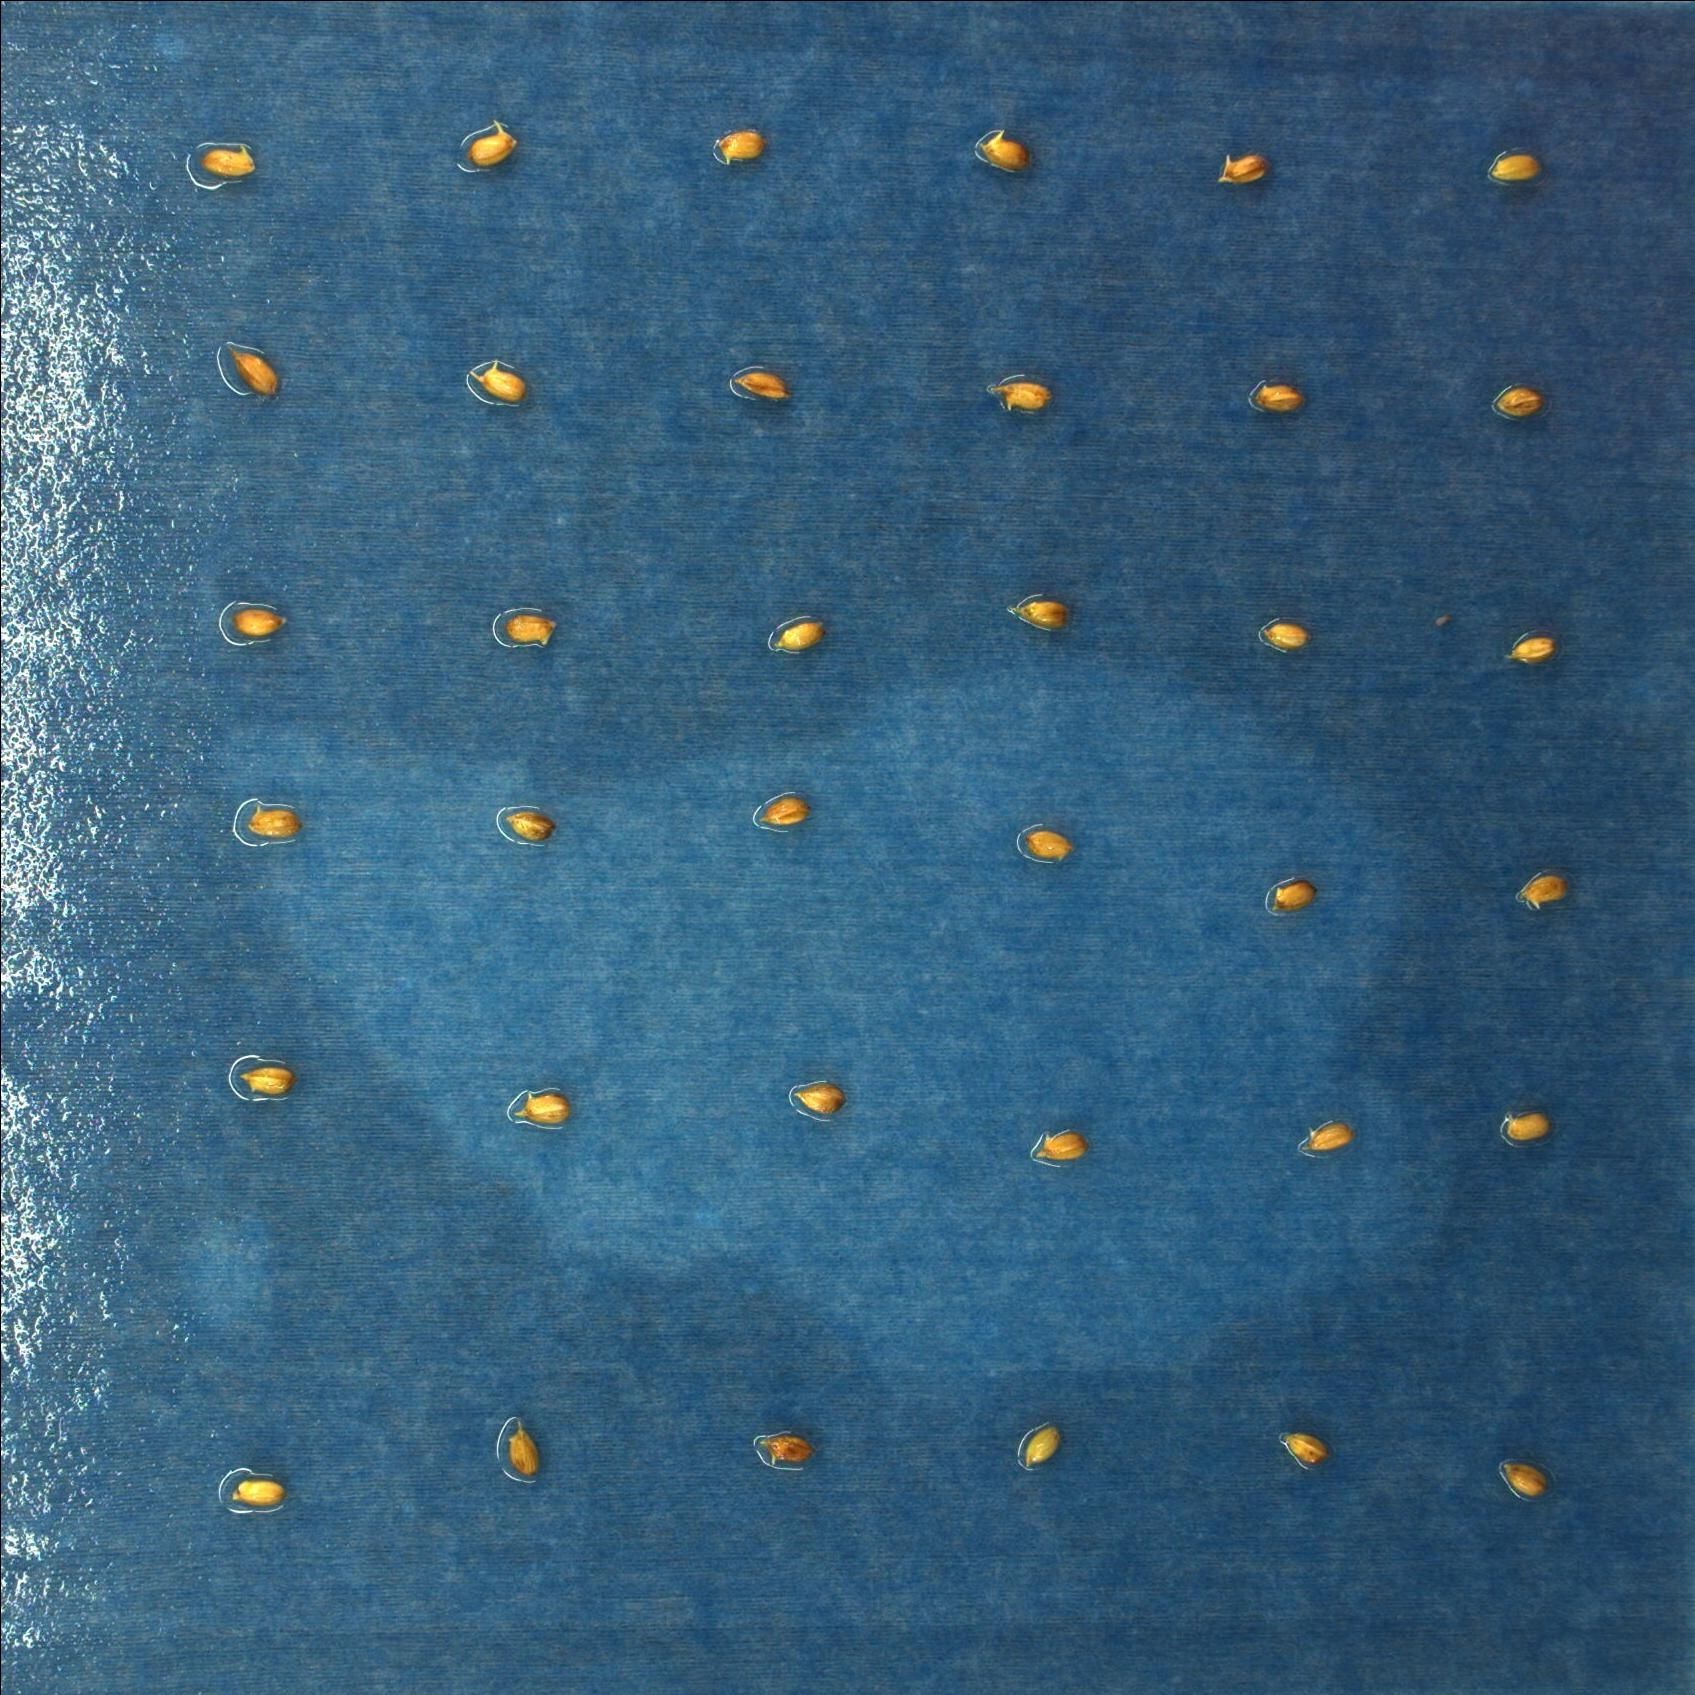not sprout: (225, 345, 281, 394), (464, 120, 522, 168), (975, 129, 1028, 180), (751, 1426, 813, 1470), (733, 362, 789, 408), (1004, 594, 1074, 632), (242, 802, 304, 844), (472, 359, 528, 404), (511, 1090, 573, 1130), (506, 1414, 543, 1481), (1274, 1426, 1329, 1470), (1496, 1464, 1551, 1506), (231, 607, 289, 646), (1243, 380, 1309, 414), (203, 141, 256, 183), (990, 374, 1048, 411), (1487, 152, 1549, 186), (770, 618, 824, 657), (1018, 1420, 1062, 1468), (1212, 154, 1273, 188), (225, 1475, 286, 1509), (503, 613, 560, 649), (1020, 824, 1077, 858), (1503, 632, 1555, 667), (1501, 1104, 1548, 1144), (1520, 875, 1568, 914), (757, 796, 809, 832), (1493, 383, 1544, 418), (1042, 1128, 1087, 1167), (504, 809, 553, 844), (1305, 1121, 1354, 1156), (795, 1080, 844, 1114), (244, 1062, 293, 1096), (1270, 879, 1318, 913), (716, 129, 762, 161), (1260, 619, 1305, 650)
